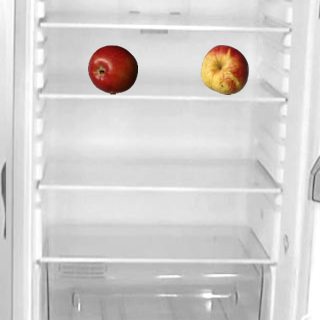Apple Braeburn: (87, 44, 137, 94)
Apple Red Yellow 1: (199, 44, 249, 94)
